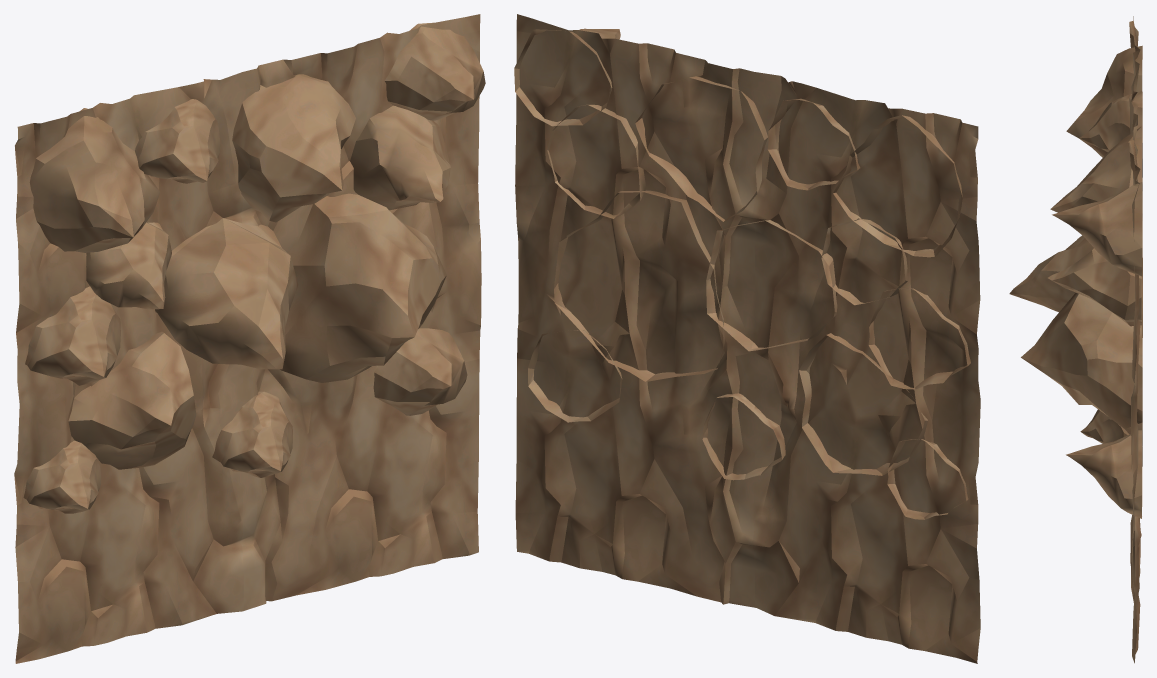
The model's file is SM_ENV_KNFRST_RoofSet_A.FBX.
3 renders of one model, left to right at view 1: azimuth 30°, elevation 25°; view 2: azimuth 150°, elevation 25°; view 3: azimuth 270°, elevation 25°, orthographic. The views are drawn at different scales.
Parts seen in each view (by area): view 1: SM_ENV_KNFRST_RoofSet_A; view 2: SM_ENV_KNFRST_RoofSet_A; view 3: SM_ENV_KNFRST_RoofSet_A.
Part boxes in pixels (x1,y1,x2,y2): SM_ENV_KNFRST_RoofSet_A: (14, 14, 485, 663); SM_ENV_KNFRST_RoofSet_A: (514, 14, 980, 663); SM_ENV_KNFRST_RoofSet_A: (1009, 16, 1142, 663).
Size of the model in its own units: 2444 by 2717 by 718.
